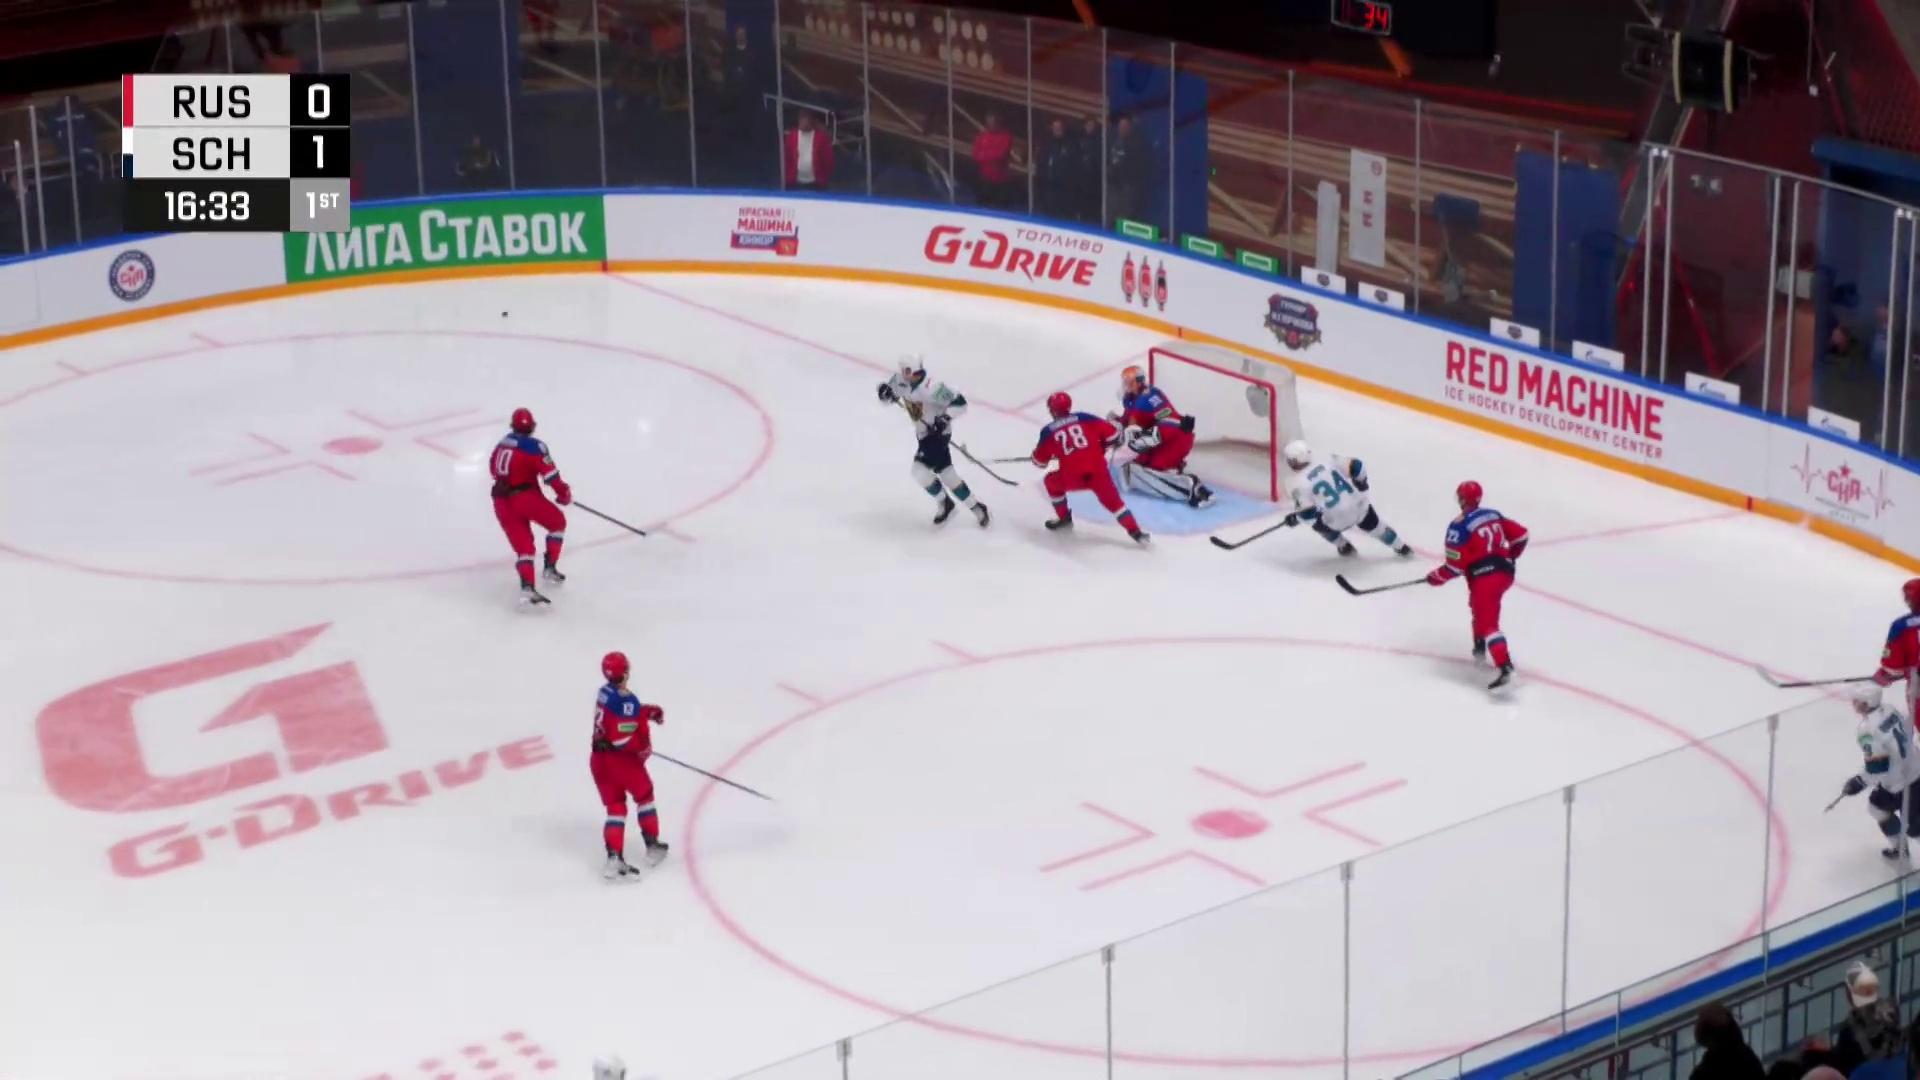ball: (501, 311, 509, 318)
